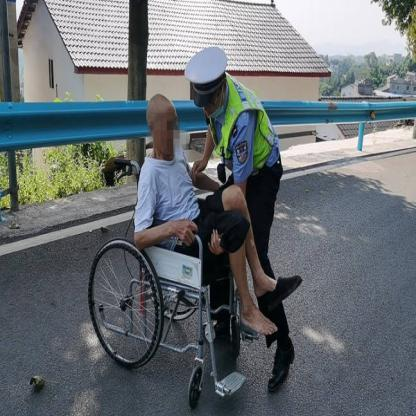wheelchair: (89, 93, 300, 406)
